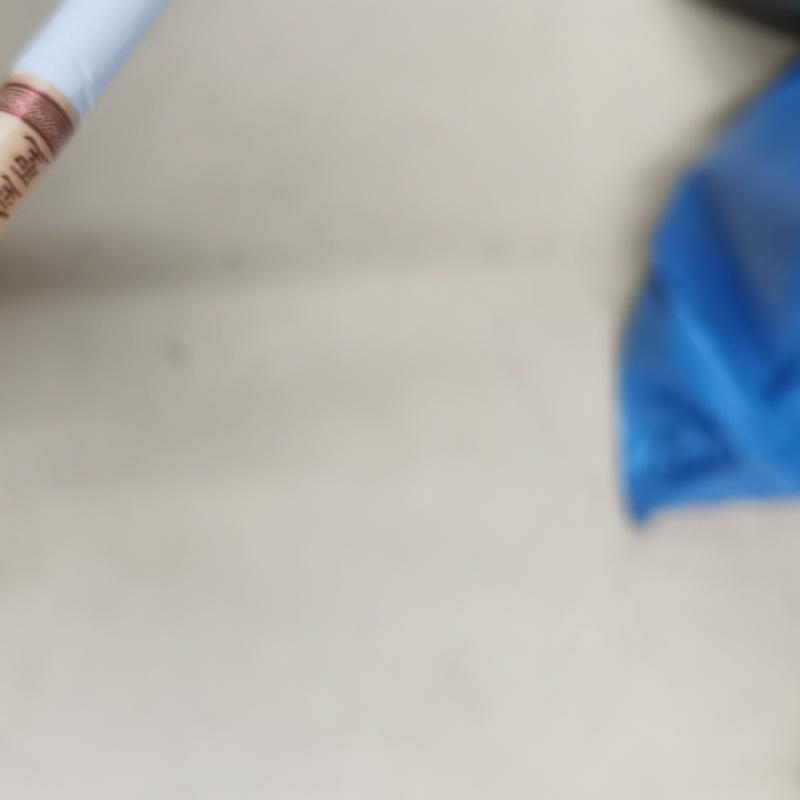cigarette: (3, 0, 170, 212)
